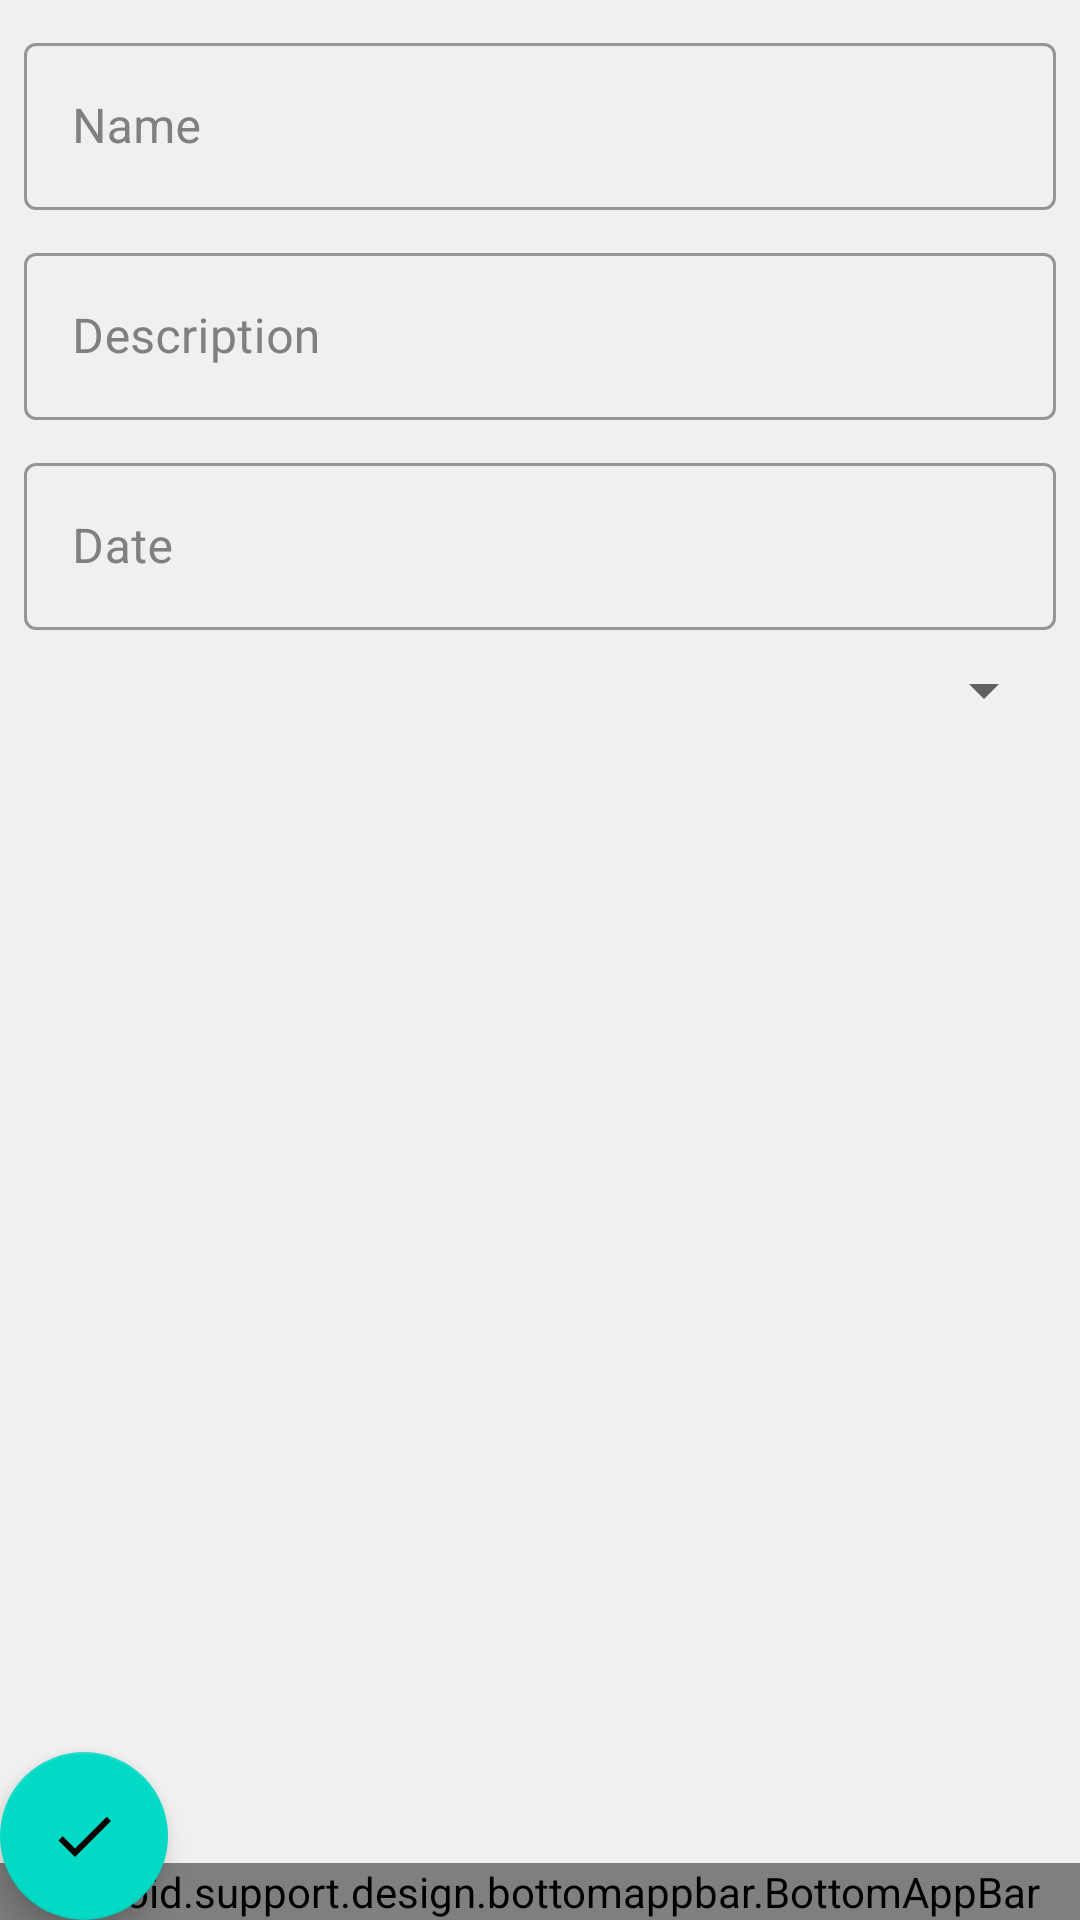

Where icons sit on this 1080×1920 app screen, as rect(x1, y1, x2, y2):
check: rect(0, 1752, 168, 1920)
